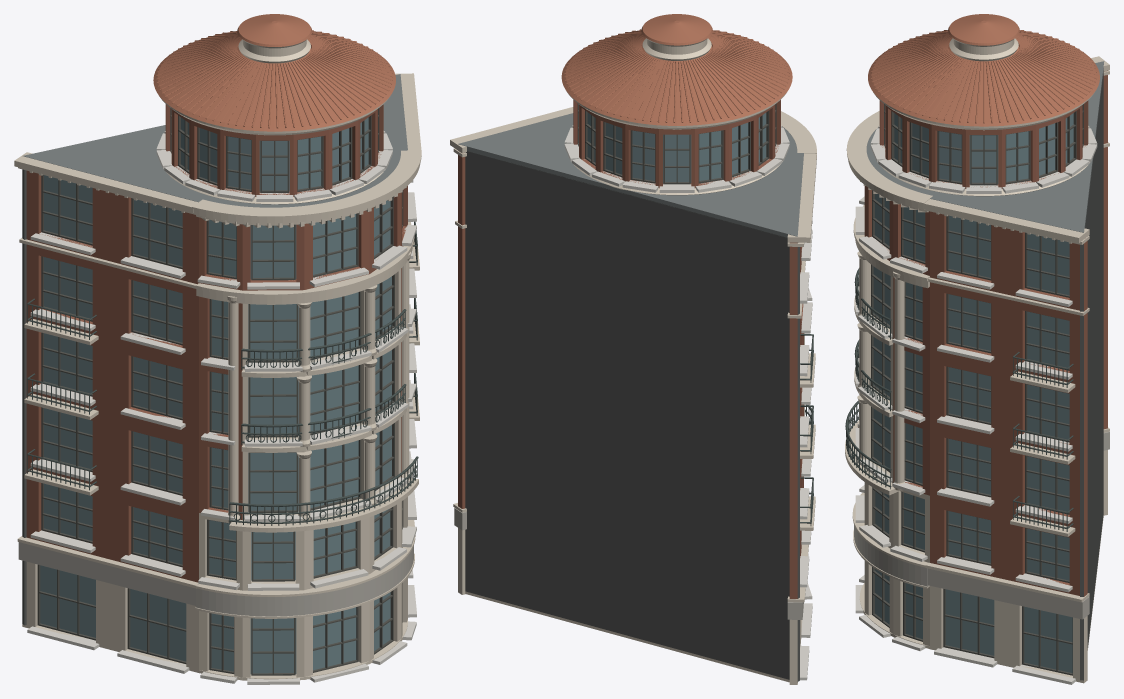
Rendered from huangpu-young-apartments-web.glb.
The picture shows the model from 3 angles, left to right: view 1: azimuth 30°, elevation 25°; view 2: azimuth 150°, elevation 25°; view 3: azimuth 270°, elevation 25°; orthographic projection. The views are drawn at different scales.
Parts seen in each view (by area): view 1: 永业大楼（杨氏公寓）淮海中路、雁荡路圆角; view 2: 永业大楼（杨氏公寓）淮海中路、雁荡路圆角; view 3: 永业大楼（杨氏公寓）淮海中路、雁荡路圆角.
Boxes of the visible parts, left/top/right/bottom form: 永业大楼（杨氏公寓）淮海中路、雁荡路圆角: left=14, top=14, right=421, bottom=684; 永业大楼（杨氏公寓）淮海中路、雁荡路圆角: left=450, top=14, right=816, bottom=684; 永业大楼（杨氏公寓）淮海中路、雁荡路圆角: left=845, top=14, right=1109, bottom=684.
Size of the model in its own units: 18.93 by 28.1 by 11.66.
